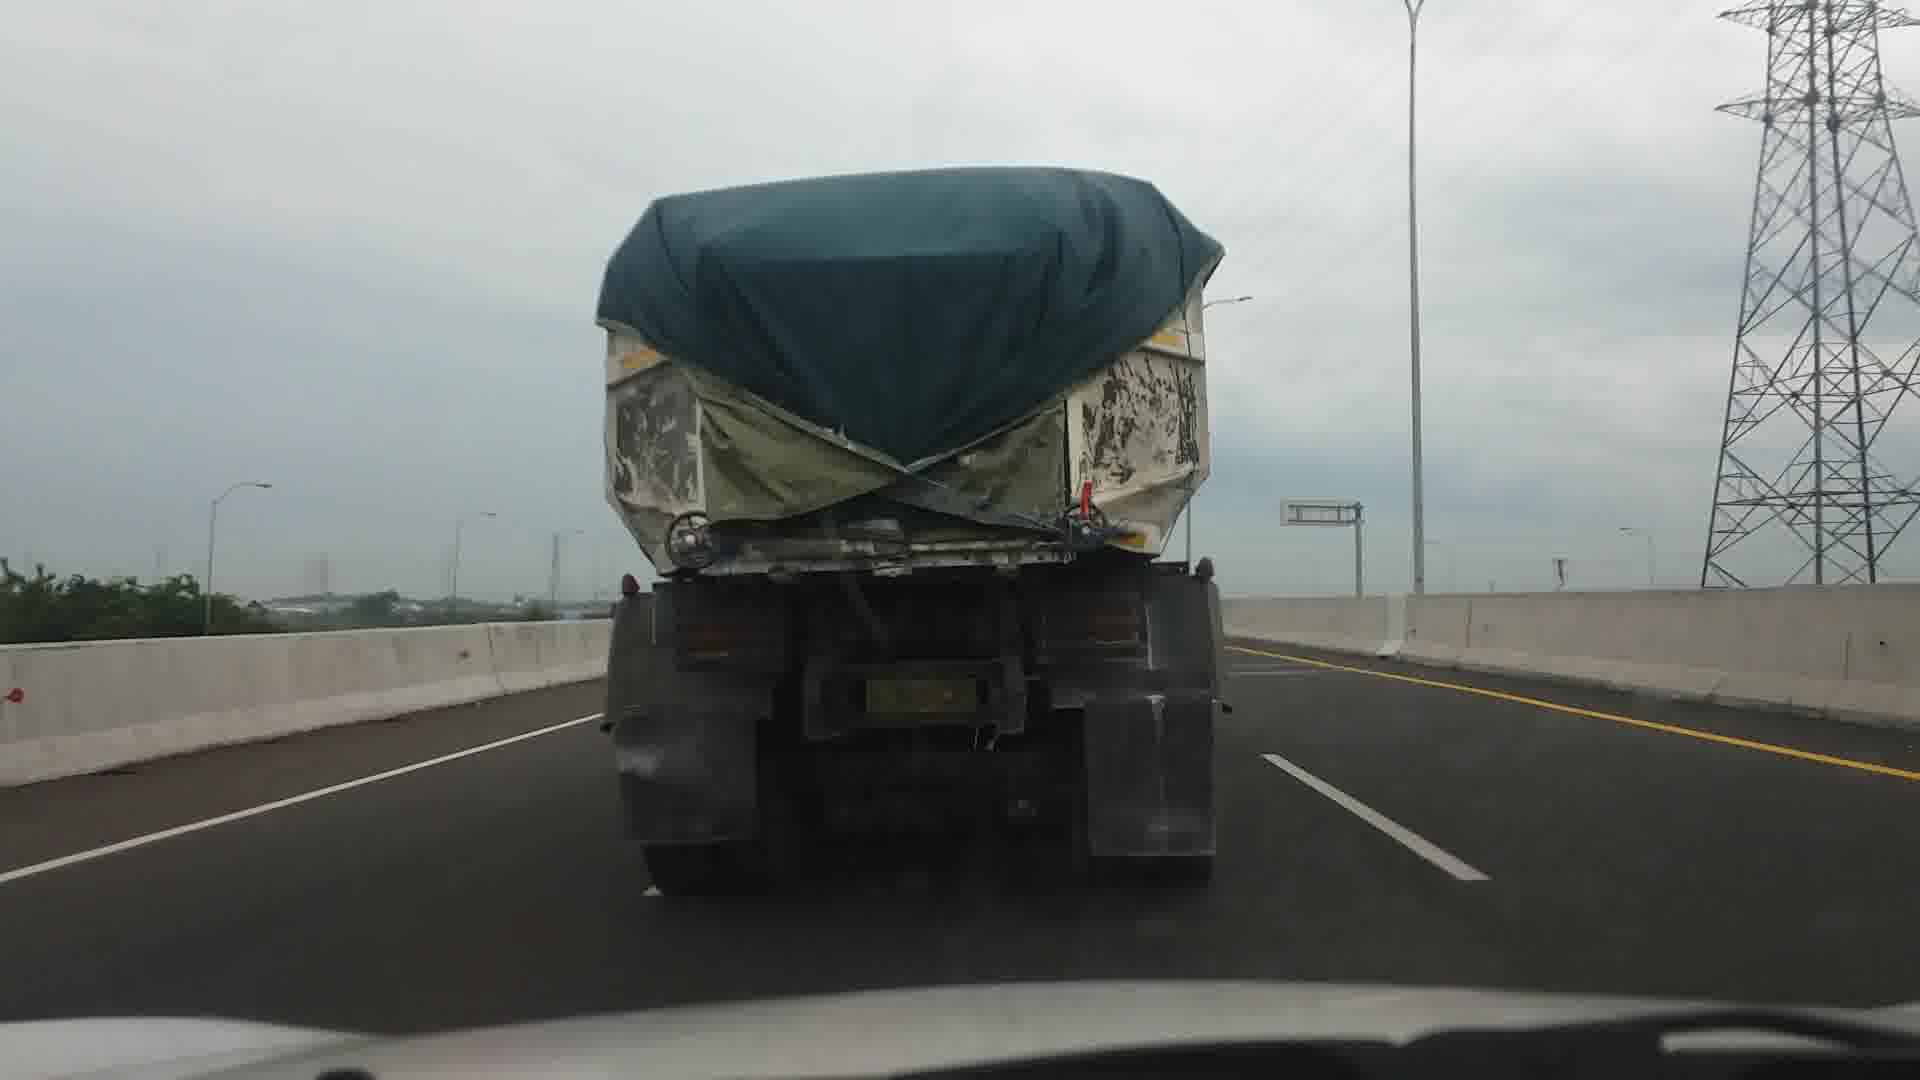plate_positive: (864, 678, 977, 713)
